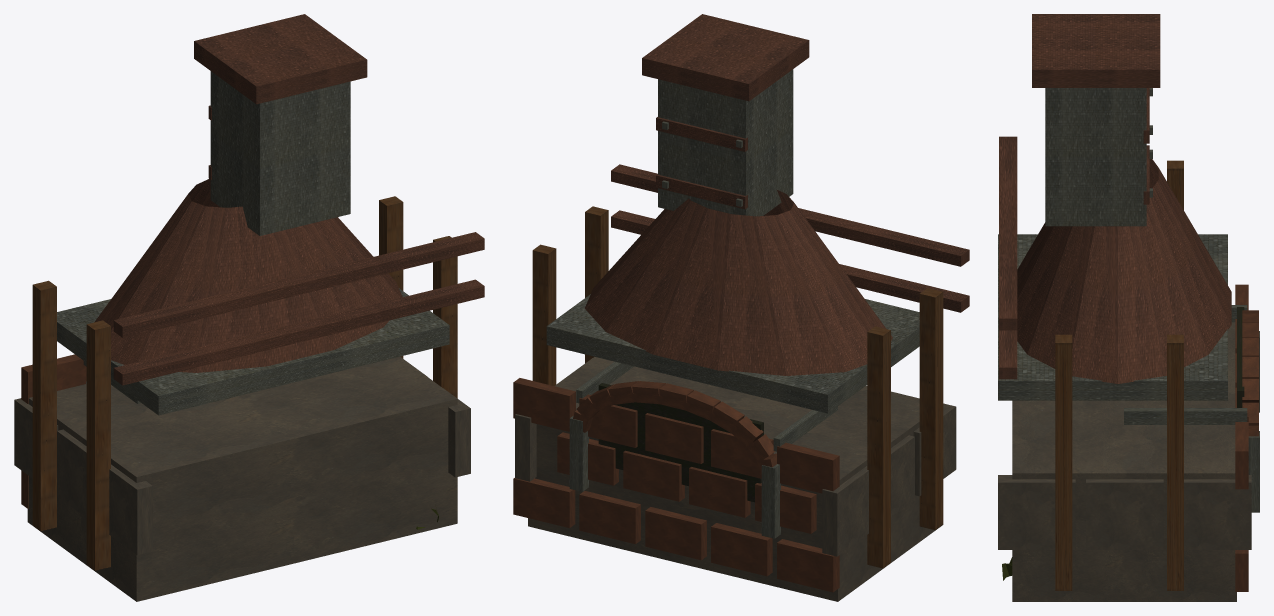
The model's file is village_forge.glb.
3 views of the same model, side by side, from view 1: azimuth 30°, elevation 25°; view 2: azimuth 150°, elevation 25°; view 3: azimuth 270°, elevation 25° (orthographic). The views are drawn at different scales.
Visible parts, largest first — view 1: broken_fieldstone, oxide_sheet_metal, cold_galvanized_metal, oak_planks_and_supports, firebrick_and_clay; view 2: oxide_sheet_metal, firebrick_and_clay, cold_galvanized_metal, broken_fieldstone, oak_planks_and_supports, kiln_soot_and_embers; view 3: oxide_sheet_metal, broken_fieldstone, cold_galvanized_metal, oak_planks_and_supports, firebrick_and_clay, kiln_soot_and_embers.
Part boxes in pixels (x1=…): broken_fieldstone: x1=14, y1=356, x2=470, y2=601; oxide_sheet_metal: x1=94, y1=14, x2=484, y2=385; cold_galvanized_metal: x1=57, y1=71, x2=449, y2=415; oak_planks_and_supports: x1=32, y1=196, x2=457, y2=570; firebrick_and_clay: x1=21, y1=354, x2=86, y2=508; oxide_sheet_metal: x1=584, y1=14, x2=969, y2=375; firebrick_and_clay: x1=513, y1=378, x2=839, y2=592; cold_galvanized_metal: x1=546, y1=69, x2=919, y2=538; broken_fieldstone: x1=515, y1=357, x2=956, y2=601; oak_planks_and_supports: x1=532, y1=206, x2=943, y2=568; kiln_soot_and_embers: x1=598, y1=383, x2=763, y2=502; oxide_sheet_metal: x1=999, y1=14, x2=1231, y2=383; broken_fieldstone: x1=998, y1=322, x2=1251, y2=601; cold_galvanized_metal: x1=998, y1=88, x2=1259, y2=512; oak_planks_and_supports: x1=1055, y1=160, x2=1183, y2=590; firebrick_and_clay: x1=1235, y1=284, x2=1258, y2=591; kiln_soot_and_embers: x1=1237, y1=307, x2=1244, y2=407.
Bounding box in the file's own units: 2.56 × 3.21 × 1.55.
Materials: 7 (7 with a texture image).
